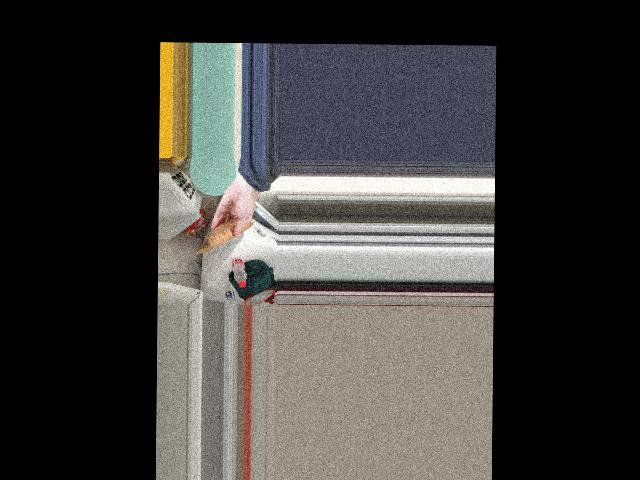sweet_potato: (211, 219, 247, 244)
